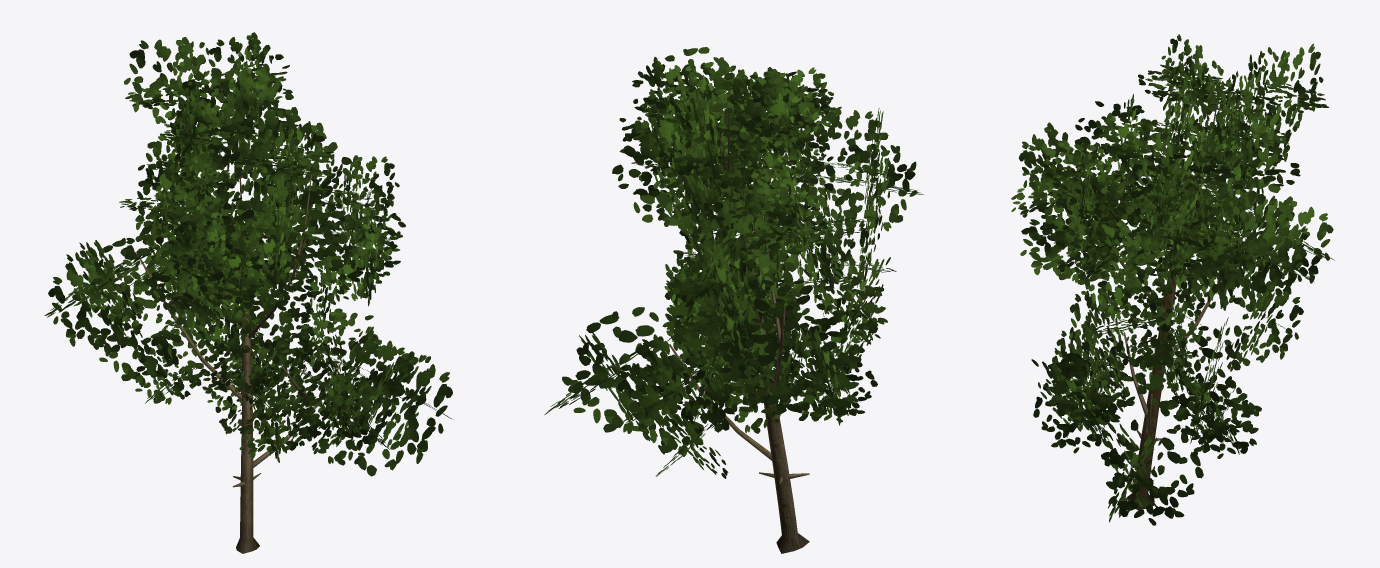
File: env_tree_prairie_mature_01.glb
3 views of the same model, side by side, from view 1: azimuth 30°, elevation 25°; view 2: azimuth 150°, elevation 25°; view 3: azimuth 270°, elevation 25° (orthographic). The views are drawn at different scales.
Visible parts, largest first — view 1: tree_prairie_mature_01; view 2: tree_prairie_mature_01; view 3: tree_prairie_mature_01.
Part boxes in pixels (<box>): tree_prairie_mature_01: <box>44,32,453,553</box>; tree_prairie_mature_01: <box>544,47,923,553</box>; tree_prairie_mature_01: <box>1011,34,1334,525</box>.
Bounding box in the file's own units: 5.73 × 6.9 × 4.91.
2 materials, 2 textured.
